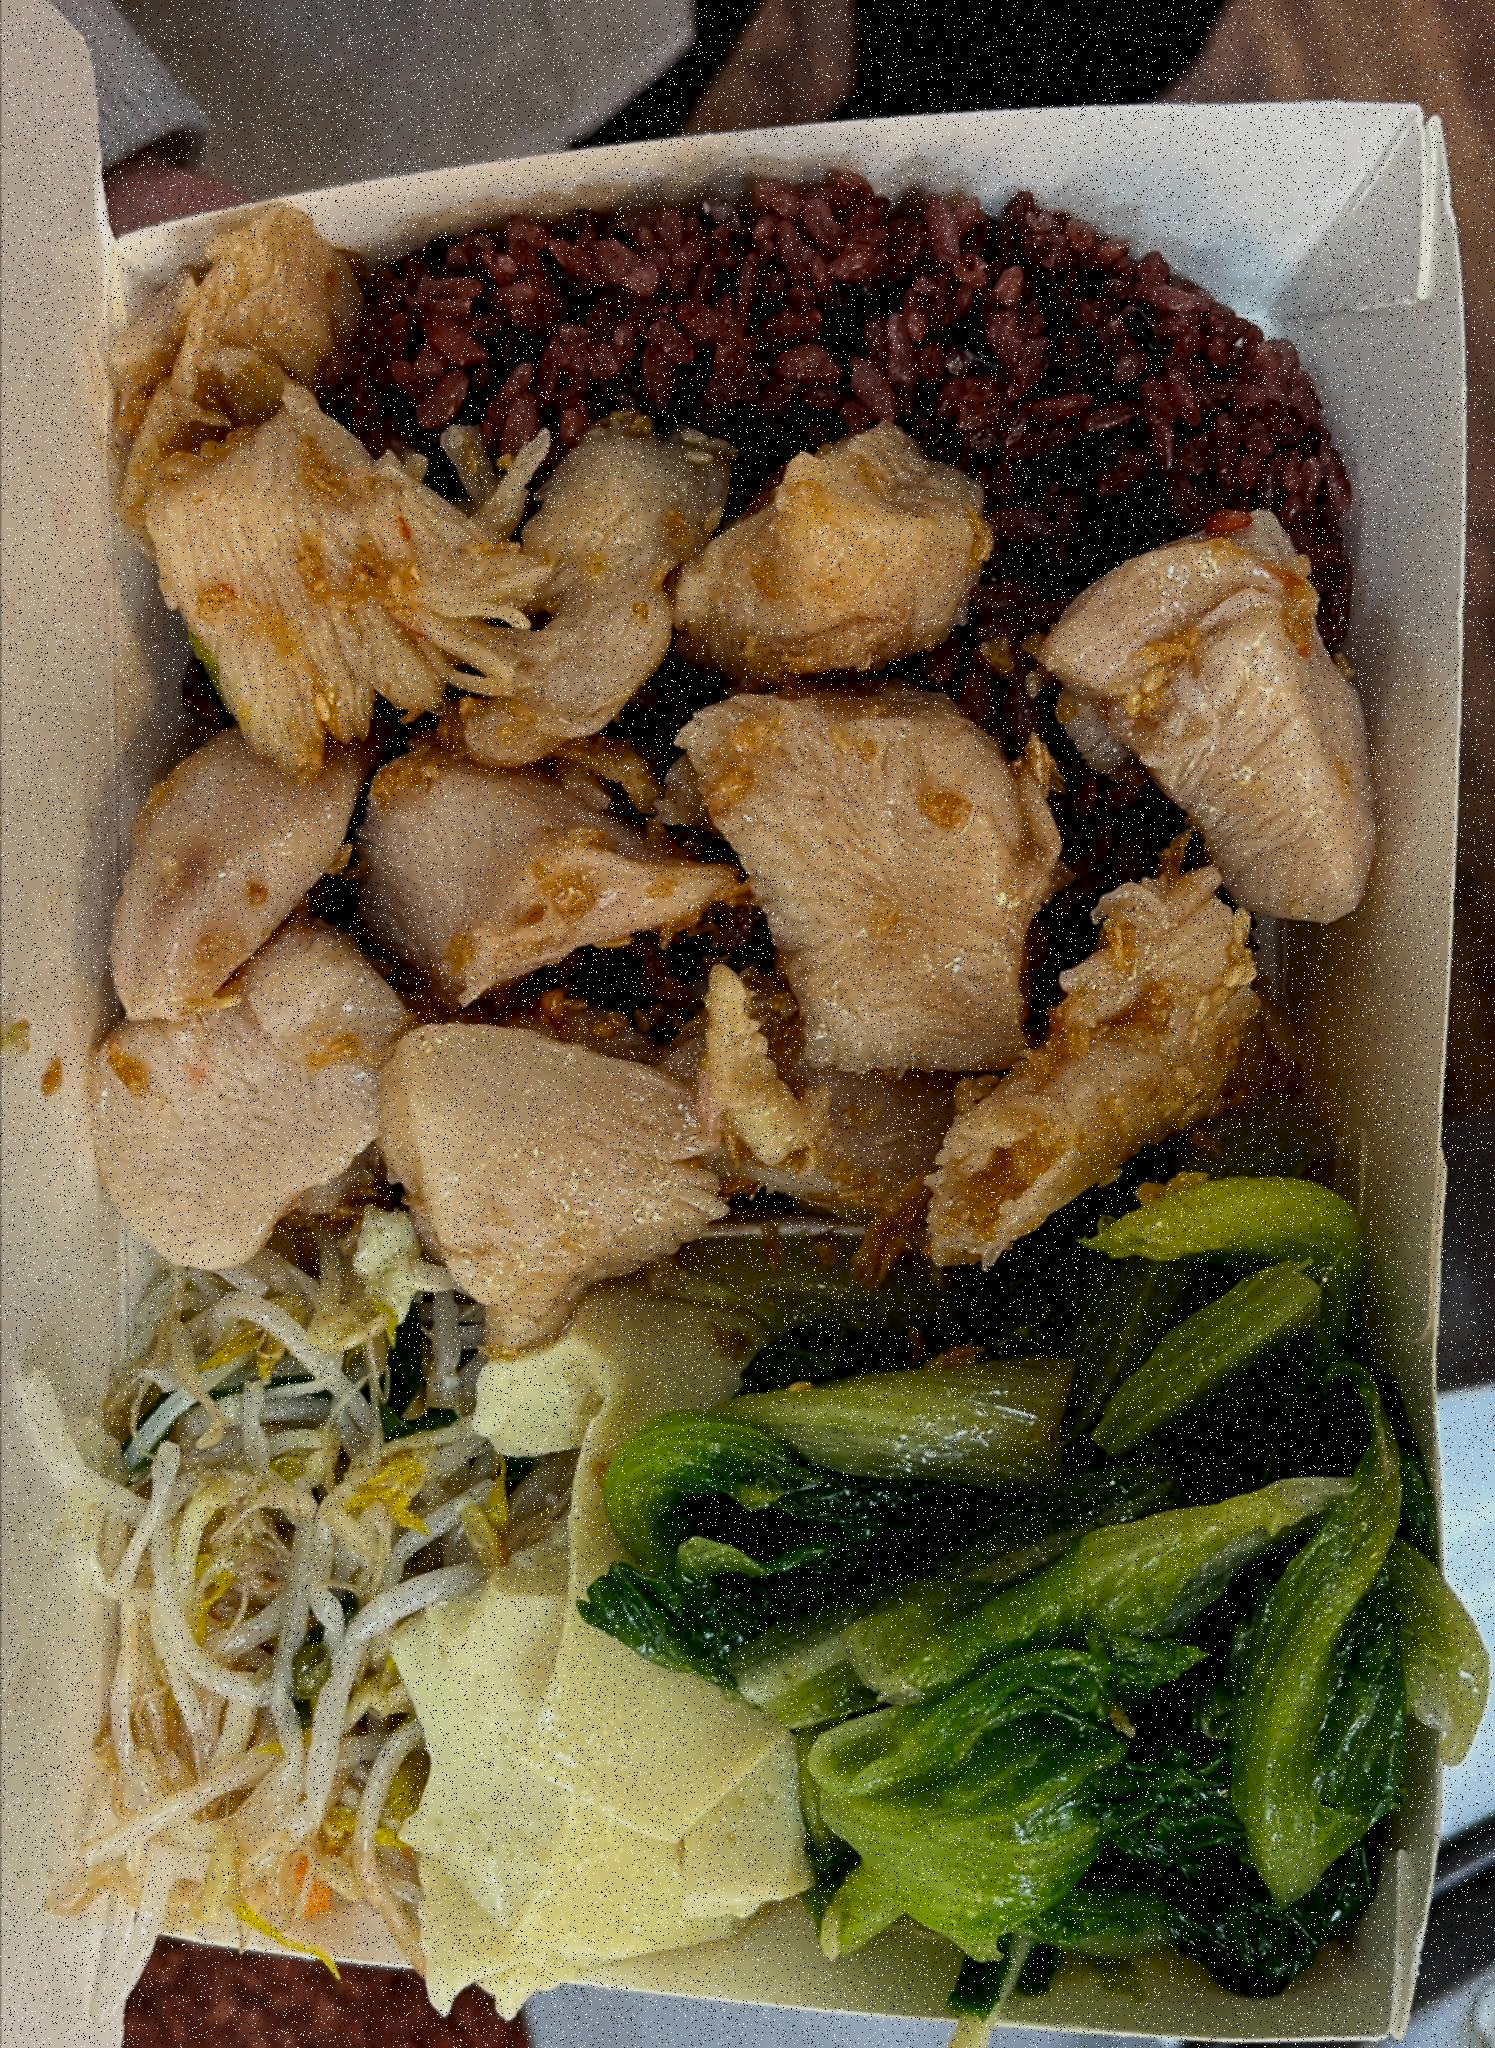box: (41, 37, 1490, 2048)
purple rice: (189, 189, 1365, 1108)
scallion chicken: (135, 415, 1342, 1253)
side dish: (655, 1196, 1428, 1973), (72, 1266, 503, 1922), (414, 1280, 789, 1999)
